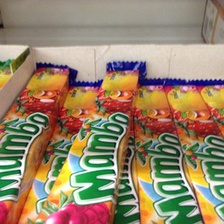candy: (67, 62, 137, 222), (4, 57, 66, 222), (130, 76, 197, 223), (166, 75, 222, 224)
